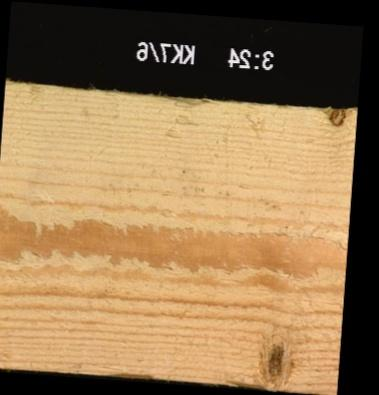edge_knot: (325, 106, 346, 126)
wave: (100, 361, 158, 378)
